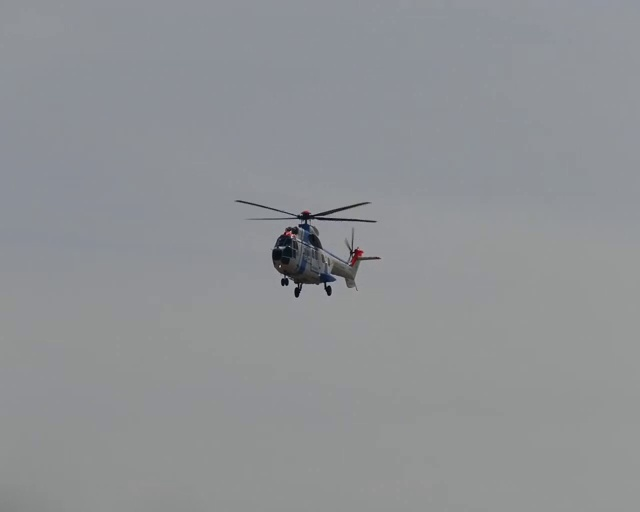HELICOPTER: (233, 197, 382, 298)
